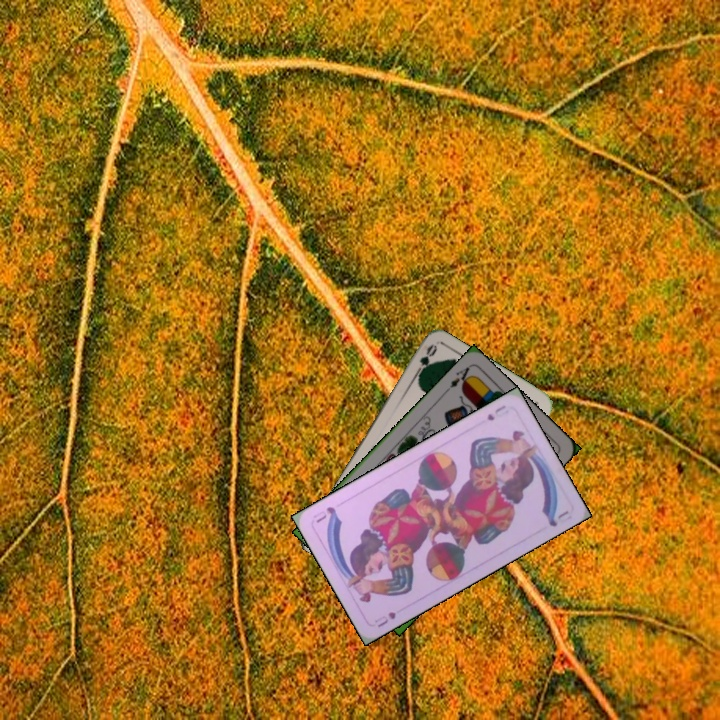EA: (441, 362, 475, 395)
GO: (411, 340, 440, 380)
SU: (370, 608, 399, 630), (483, 401, 508, 423)
